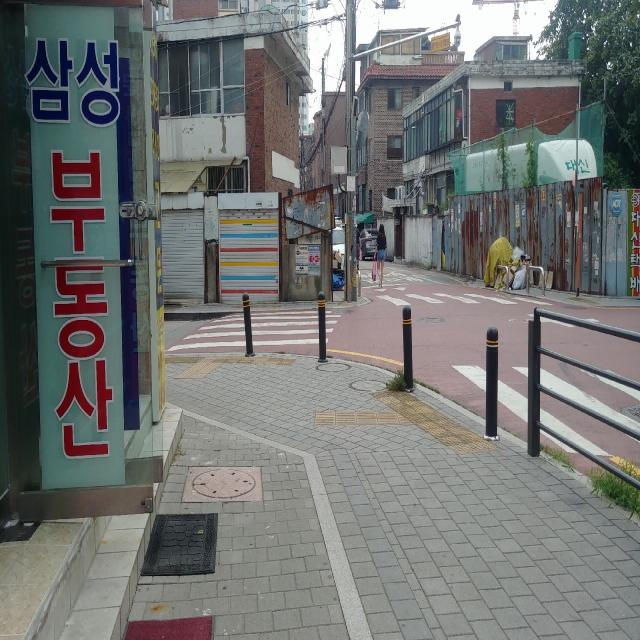횡단보도: (166, 310, 342, 354)
